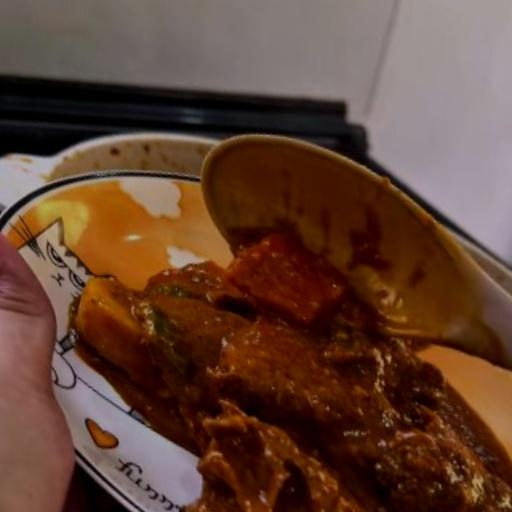pork caldereta: (78, 239, 511, 511)
